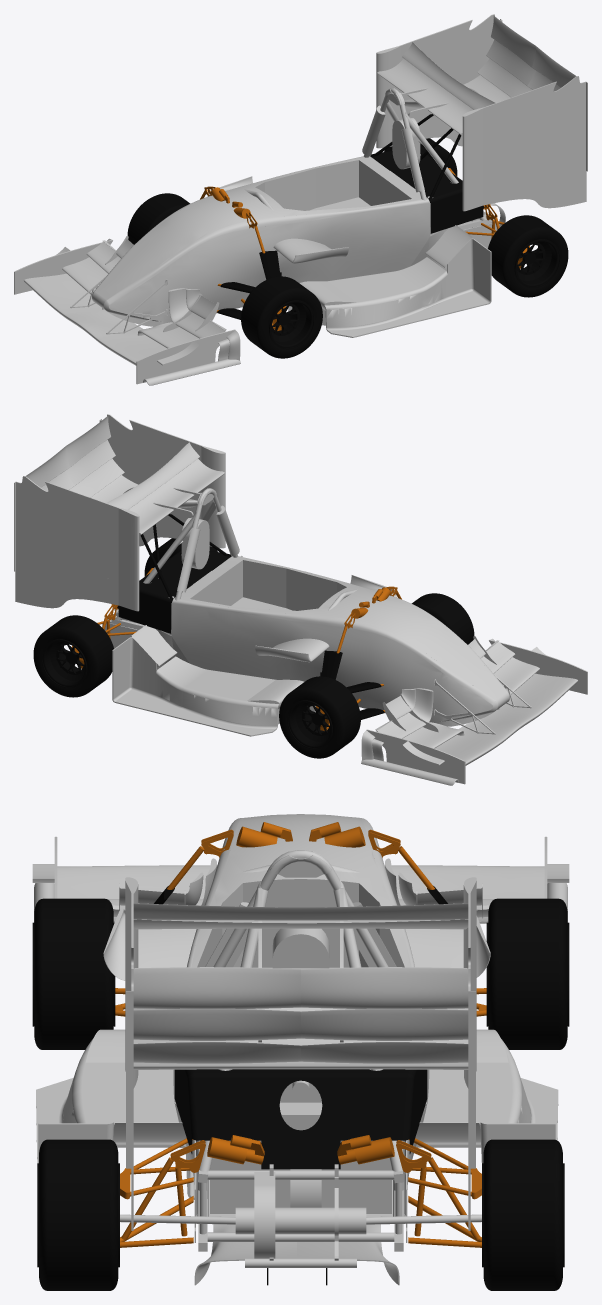
Rendered from SR17-reduced.obj.
The picture shows the model from 3 angles, top to bottom: view 1: azimuth 30°, elevation 25°; view 2: azimuth 150°, elevation 25°; view 3: azimuth 270°, elevation 25°; orthographic projection. The views are drawn at different scales.
Parts seen in each view (by area): view 1: body-2-1Solid-162-1, RW-2-1RW_Mounts-2-1Solid-139-1, FW-2-1FW_Mounts-3-1Solid-119-1.125, DIFFUSER-1Solid-159-1, WHEELS-2-1FR-2-1, WHEELS-2-1RL-2-1, body-2-1Solid-163-1, suspension_front-2-1Solid-178-1, RW-2-1RW_Mounts-2-1Solid-136-1; view 2: body-2-1Solid-162-1, RW-2-1RW_Mounts-2-1Solid-139-1, FW-2-1FW_Mounts-3-1Solid-119-1.125, DIFFUSER-1Solid-159-1, WHEELS-2-1FR-2-1, WHEELS-2-1RR-2-1, body-2-1Solid-163-1, suspension_front-2-1Solid-178-1, RW-2-1RW_Mounts-2-1Solid-136-1; view 3: RW-2-1RW_Mounts-2-1Solid-139-1, DIFFUSER-1Solid-159-1, body-2-1Solid-162-1, WHEELS-2-1FR-2-1, body-2-1Solid-163-1, FW-2-1FW_Mounts-3-1Solid-119-1.125, WHEELS-2-1RL-2-1, WHEELS-2-1RR-2-1, suspension_rear-2-1Solid-206-1, body-2-1Solid-165-1, body-2-1Solid-164-1, suspension_front-2-1Solid-178-1.
Part boxes in pixels (x1=…): body-2-1Solid-162-1: x1=92, y1=88, x2=499, y2=326; RW-2-1RW_Mounts-2-1Solid-139-1: x1=376, y1=14, x2=587, y2=211; FW-2-1FW_Mounts-3-1Solid-119-1.125: x1=14, y1=236, x2=240, y2=385; DIFFUSER-1Solid-159-1: x1=207, y1=176, x2=491, y2=337; WHEELS-2-1FR-2-1: x1=127, y1=193, x2=322, y2=358; WHEELS-2-1RL-2-1: x1=488, y1=215, x2=568, y2=297; body-2-1Solid-163-1: x1=370, y1=150, x2=484, y2=233; suspension_front-2-1Solid-178-1: x1=200, y1=186, x2=281, y2=329; RW-2-1RW_Mounts-2-1Solid-136-1: x1=371, y1=114, x2=461, y2=202; body-2-1Solid-162-1: x1=102, y1=488, x2=509, y2=726; RW-2-1RW_Mounts-2-1Solid-139-1: x1=14, y1=414, x2=225, y2=611; FW-2-1FW_Mounts-3-1Solid-119-1.125: x1=361, y1=636, x2=587, y2=785; DIFFUSER-1Solid-159-1: x1=112, y1=555, x2=396, y2=736; WHEELS-2-1FR-2-1: x1=279, y1=593, x2=474, y2=758; WHEELS-2-1RR-2-1: x1=33, y1=615, x2=113, y2=697; body-2-1Solid-163-1: x1=117, y1=550, x2=231, y2=633; suspension_front-2-1Solid-178-1: x1=320, y1=586, x2=401, y2=729; RW-2-1RW_Mounts-2-1Solid-136-1: x1=140, y1=514, x2=230, y2=602; RW-2-1RW_Mounts-2-1Solid-139-1: x1=125, y1=877, x2=476, y2=1230; DIFFUSER-1Solid-159-1: x1=36, y1=905, x2=558, y2=1285; body-2-1Solid-162-1: x1=173, y1=814, x2=429, y2=1251; WHEELS-2-1FR-2-1: x1=32, y1=898, x2=569, y2=1049; body-2-1Solid-163-1: x1=174, y1=1069, x2=427, y2=1169; FW-2-1FW_Mounts-3-1Solid-119-1.125: x1=32, y1=836, x2=569, y2=923; WHEELS-2-1RL-2-1: x1=37, y1=1139, x2=119, y2=1290; WHEELS-2-1RR-2-1: x1=482, y1=1139, x2=564, y2=1290; suspension_rear-2-1Solid-206-1: x1=120, y1=1135, x2=481, y2=1247; body-2-1Solid-165-1: x1=120, y1=1164, x2=481, y2=1267; body-2-1Solid-164-1: x1=210, y1=1080, x2=391, y2=1213; suspension_front-2-1Solid-178-1: x1=115, y1=822, x2=486, y2=1016.
Bounding box in the file's own units: 2.94 × 1.13 × 1.46.
